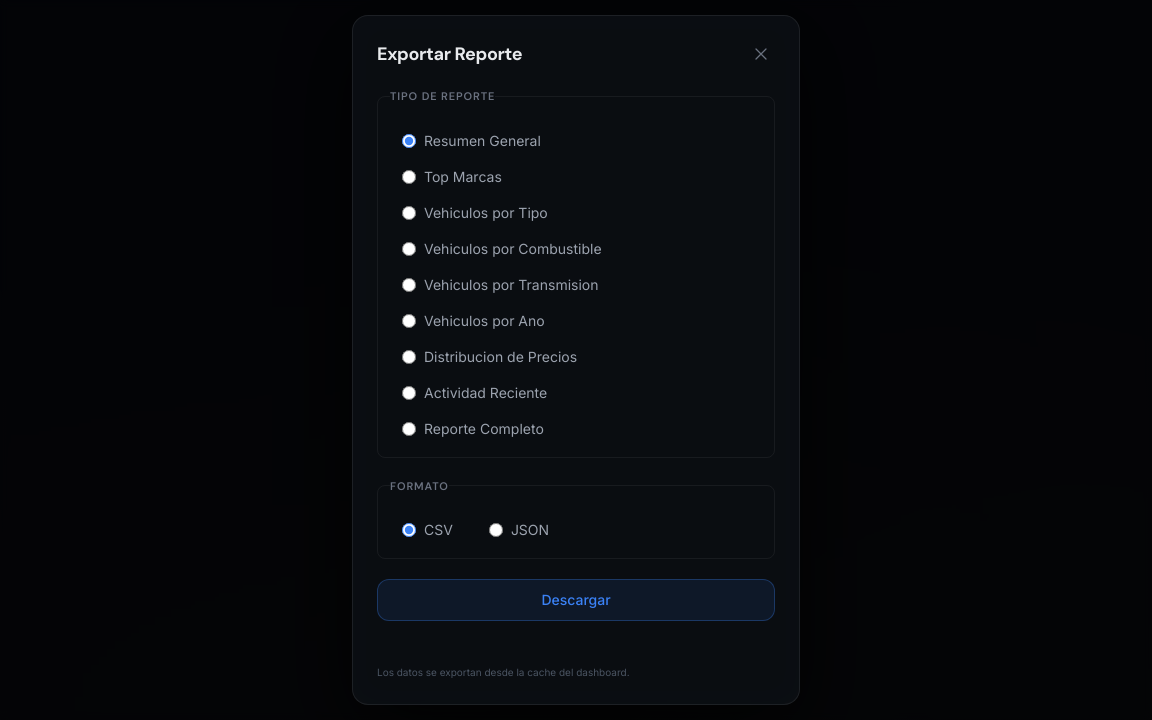
Test case: ExportModal › fullDashboard forces JSON and disables CSV
Click the radio button labelled "Reporte Completo".
click(409, 428)  # box x1=402 y1=422 x2=416 y2=436
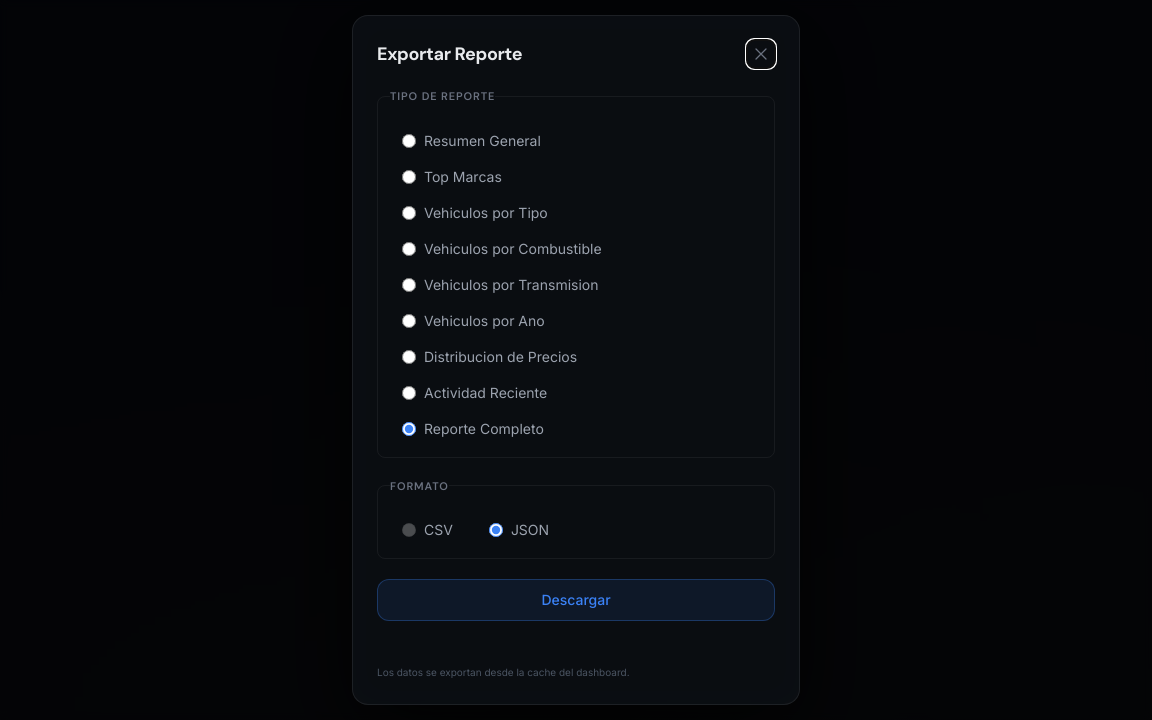
Check: the radio button showing "csv" is disabled, box x1=402 y1=523 x2=416 y2=537
Check: the radio button showing "json" is checked, box x1=489 y1=523 x2=503 y2=537
